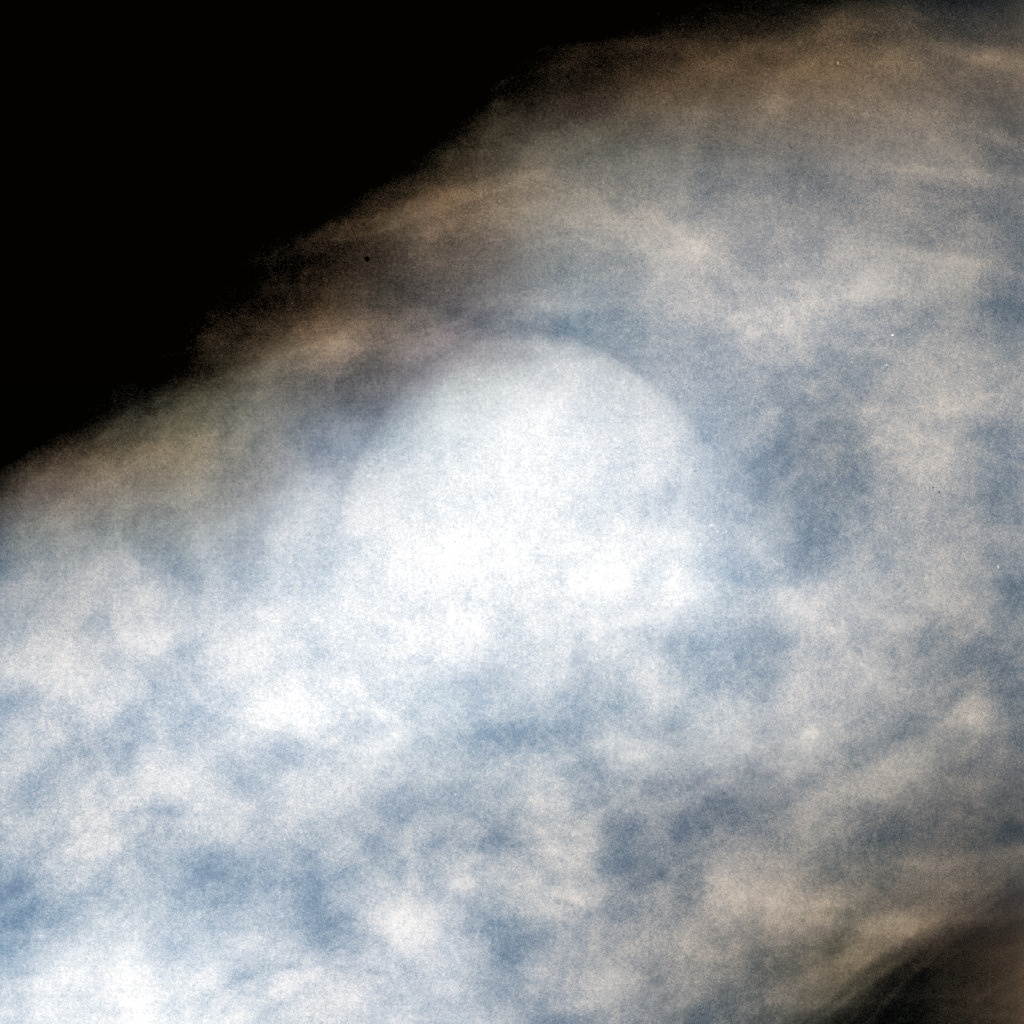tumor: (301, 316, 723, 708)
